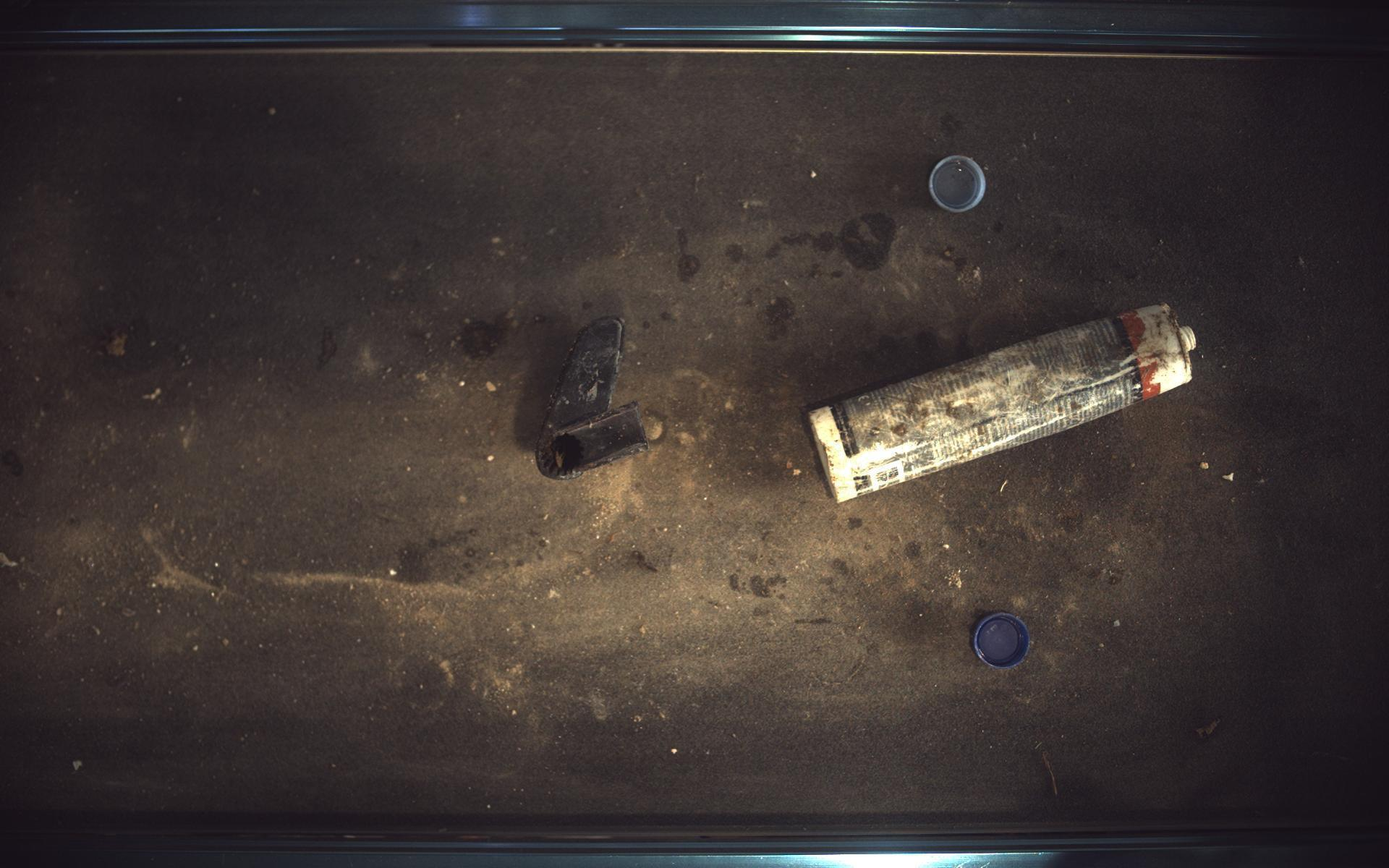general_w: (537, 317, 649, 480), (930, 154, 988, 213), (974, 613, 1032, 670)
plastic: (810, 305, 1198, 502)
